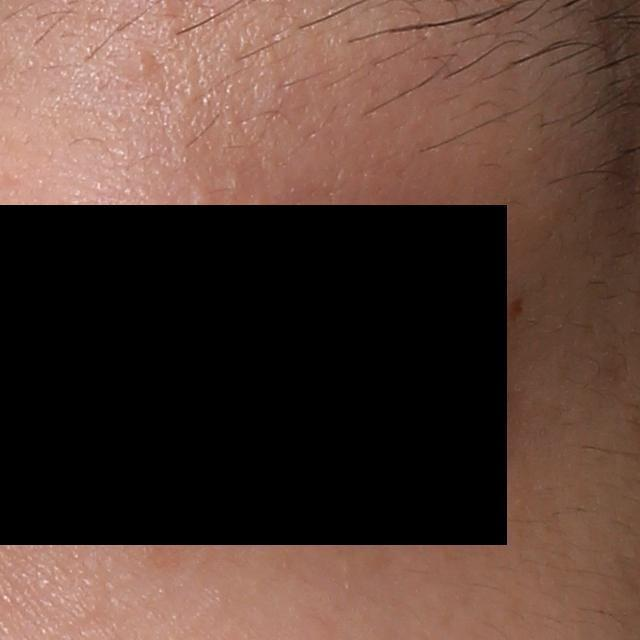comedo: (125, 52, 159, 80)
nevus: (503, 294, 527, 329)
